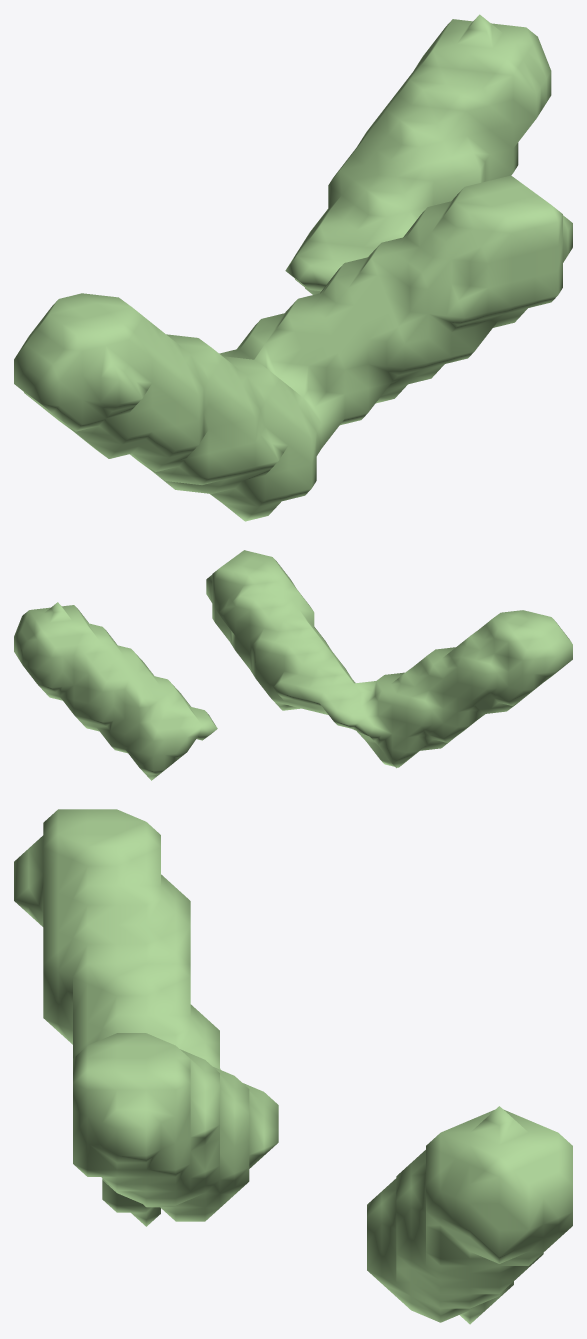
3 views of the same model, one above another, from view 1: azimuth 30°, elevation 25°; view 2: azimuth 150°, elevation 25°; view 3: azimuth 270°, elevation 25° (orthographic). The views are drawn at different scales.
Parts seen in each view (by area): view 1: structure; view 2: structure; view 3: structure.
Boxes of the visible parts, box(x1,y1,x2,y2) form: structure: box(14, 14, 572, 521); structure: box(14, 550, 572, 780); structure: box(14, 809, 572, 1324).
Bounding box in the file's own units: 48 × 19.2 × 30.4.
